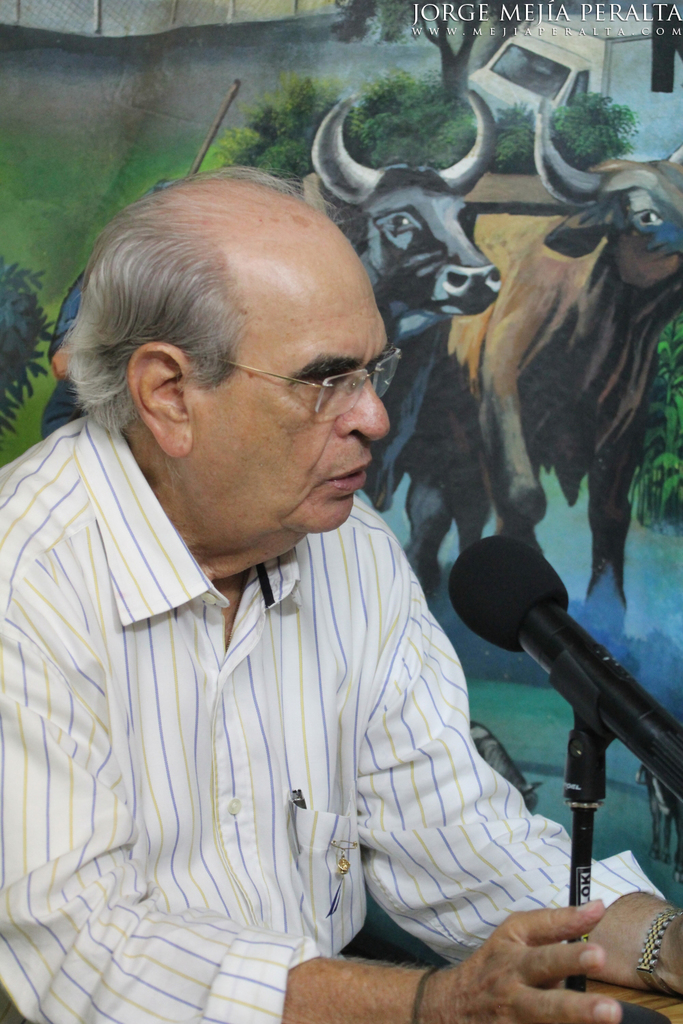Animal: (448, 88, 681, 650), (298, 73, 508, 513)
